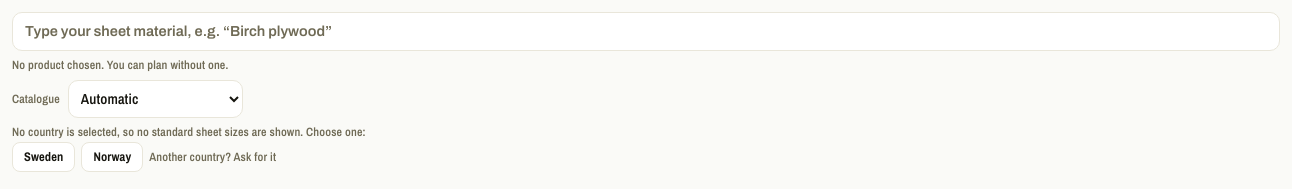
Test: searching and picking › shows a type picked from the generic catalogue as the choice, not an empty search
Step 1. Focus the dropdown named "Product" → point(646, 32), box [12,12,1280,51]
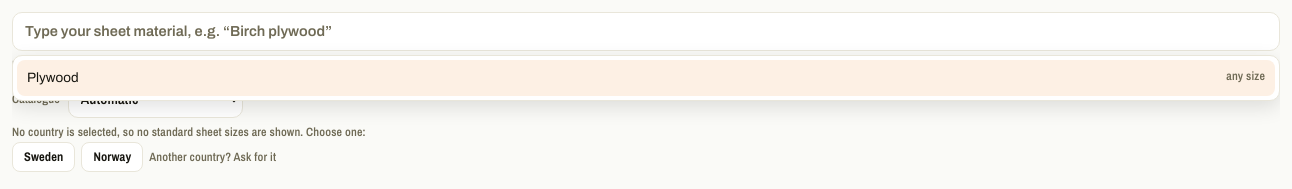
Step 2. Press the mouse on the option "Plywood any size" → point(53, 78), box [17,60,1275,96]
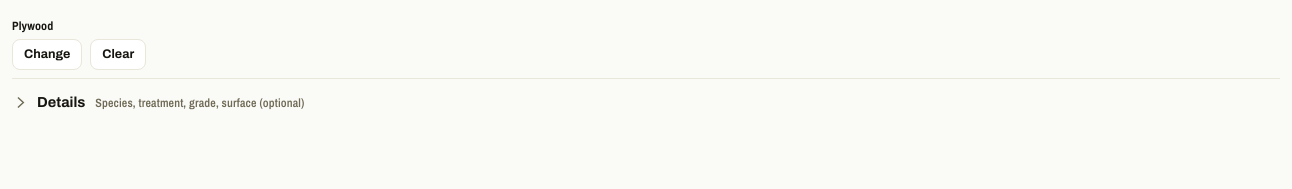
Now the message "product" is gone
Now the message with test id "product-summary" reads "Plywood", box [12,18,53,34]
Now the button with aria-label "Change — Product" is shown, box [12,39,82,70]
